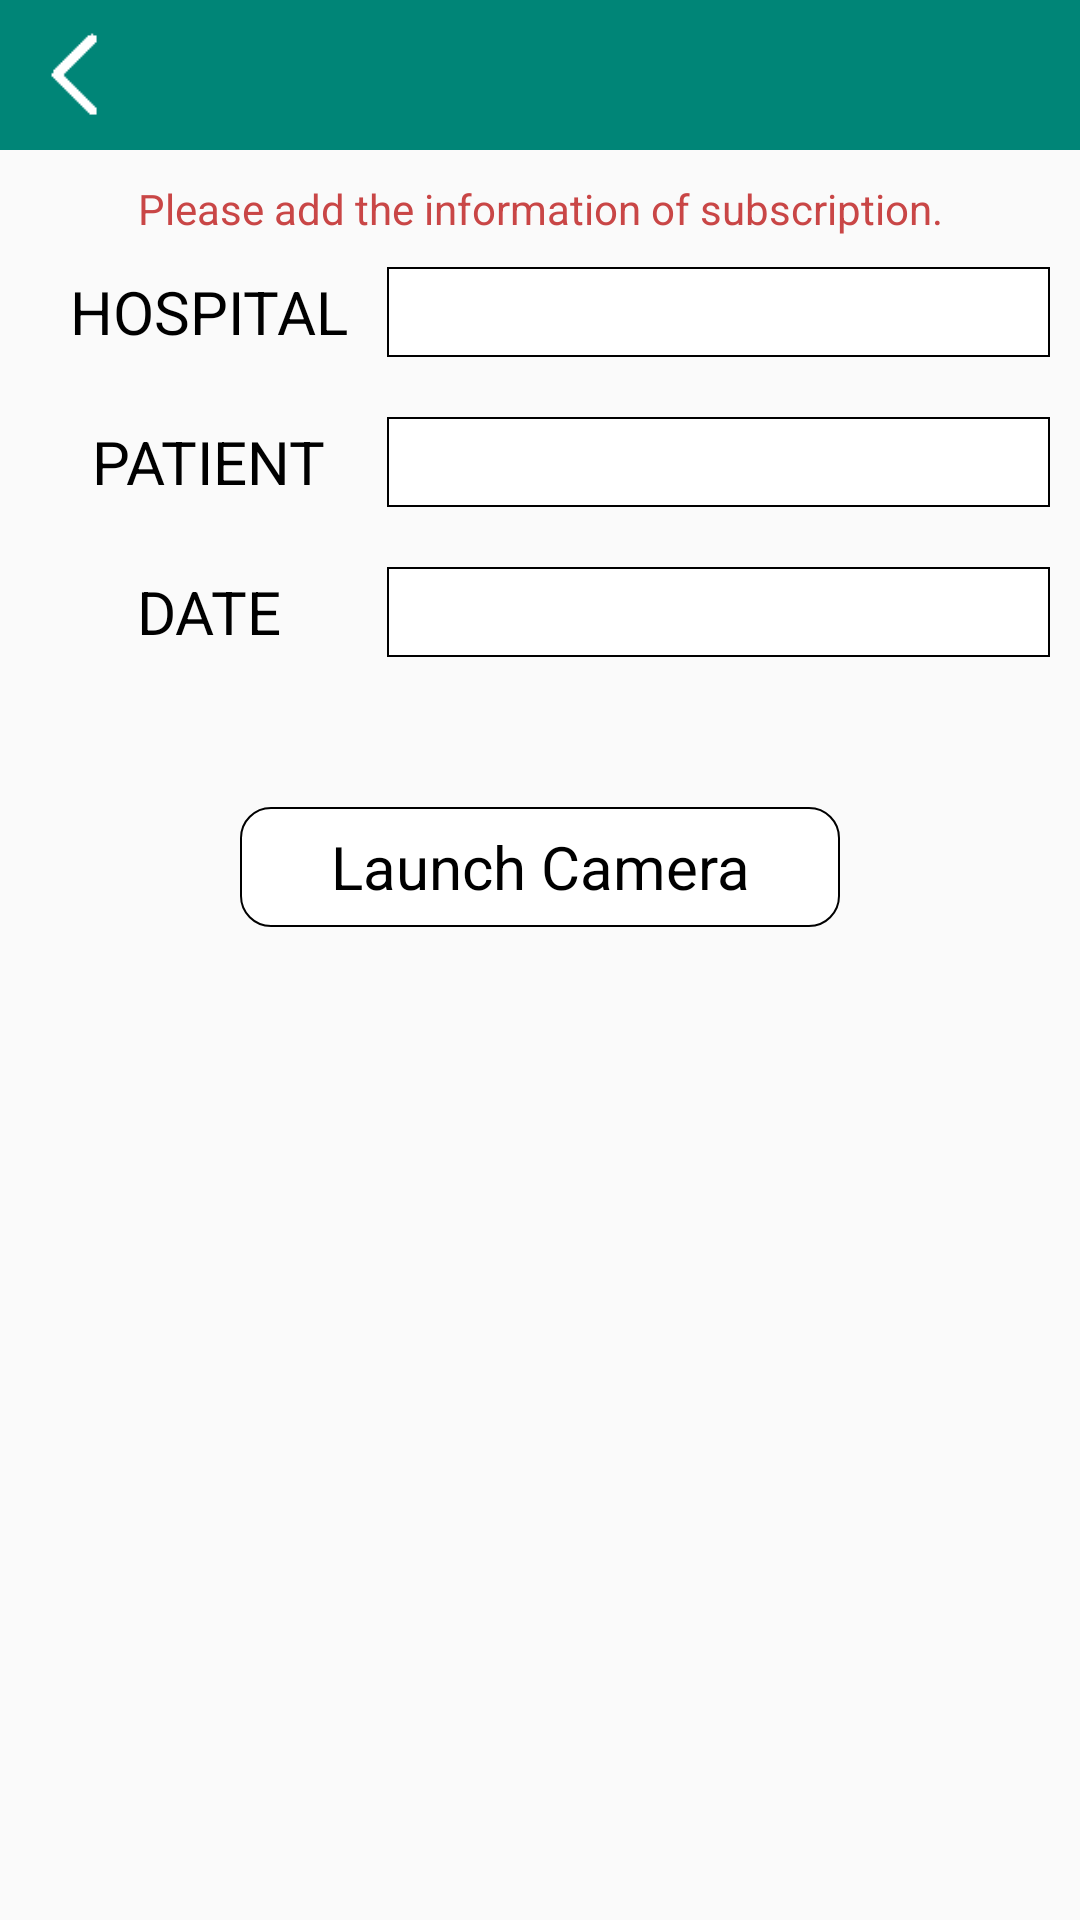

Icons on this 1080px x 1920px Android screen, each with the point to tap as (x=x, y=y):
back: (x=74, y=74)
